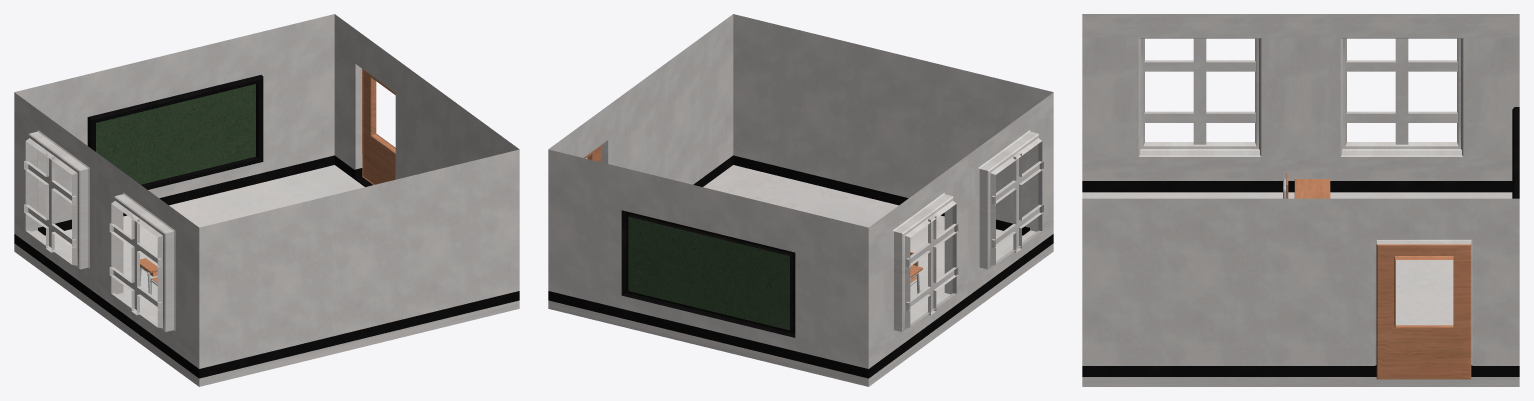
Rendered from classroom model import.fbx.
The picture shows the model from 3 angles, left to right: view 1: azimuth 30°, elevation 25°; view 2: azimuth 150°, elevation 25°; view 3: azimuth 270°, elevation 25°; orthographic projection. The views are drawn at different scales.
Visible parts, largest first — view 1: normal_wall, whiteboard_wall, window_wall, whiteboard_wall1, floor__ceiling; view 2: whiteboard_wall, normal_wall, window_wall, whiteboard_wall1, floor__ceiling; view 3: whiteboard_wall1, window_wall, floor__ceiling, table_top, whiteboard_wall.
Part boxes in pixels (x1,y1,x2,y2): normal_wall: (199,149,519,378); whiteboard_wall: (14,14,334,235); window_wall: (14,92,199,378); whiteboard_wall1: (334,14,519,186); floor__ceiling: (14,165,519,386); whiteboard_wall: (548,149,868,378); normal_wall: (733,14,1053,235); window_wall: (868,92,1053,378); whiteboard_wall1: (548,14,733,186); floor__ceiling: (548,165,1053,386); whiteboard_wall1: (1082,198,1519,379); window_wall: (1082,14,1519,192); floor__ceiling: (1082,192,1519,386); table_top: (1294,179,1330,198); whiteboard_wall: (1512,107,1519,198).
Bounding box in the file's own units: 8.72 × 3.8 × 8.
